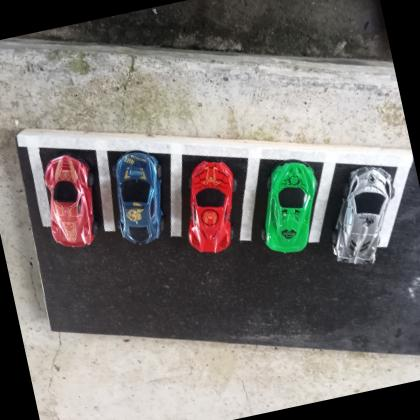Car: (318, 160, 410, 272), (248, 156, 331, 260), (174, 154, 249, 259), (106, 144, 178, 249), (37, 149, 108, 254)
